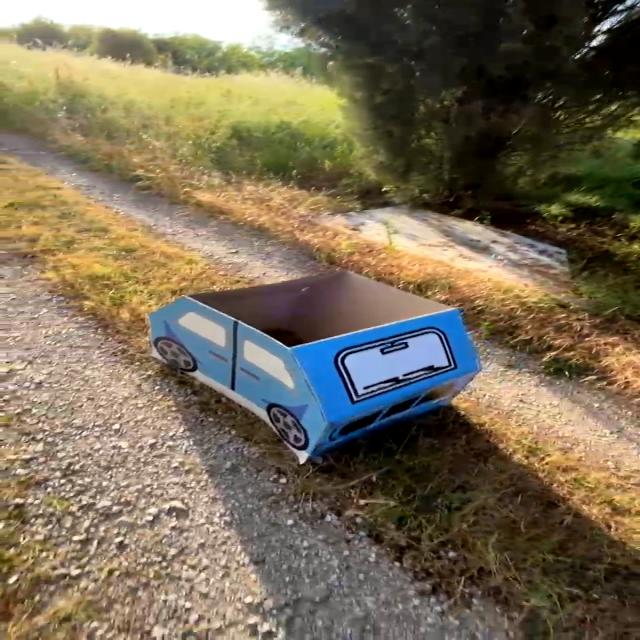blue_car: (110, 254, 534, 481)
